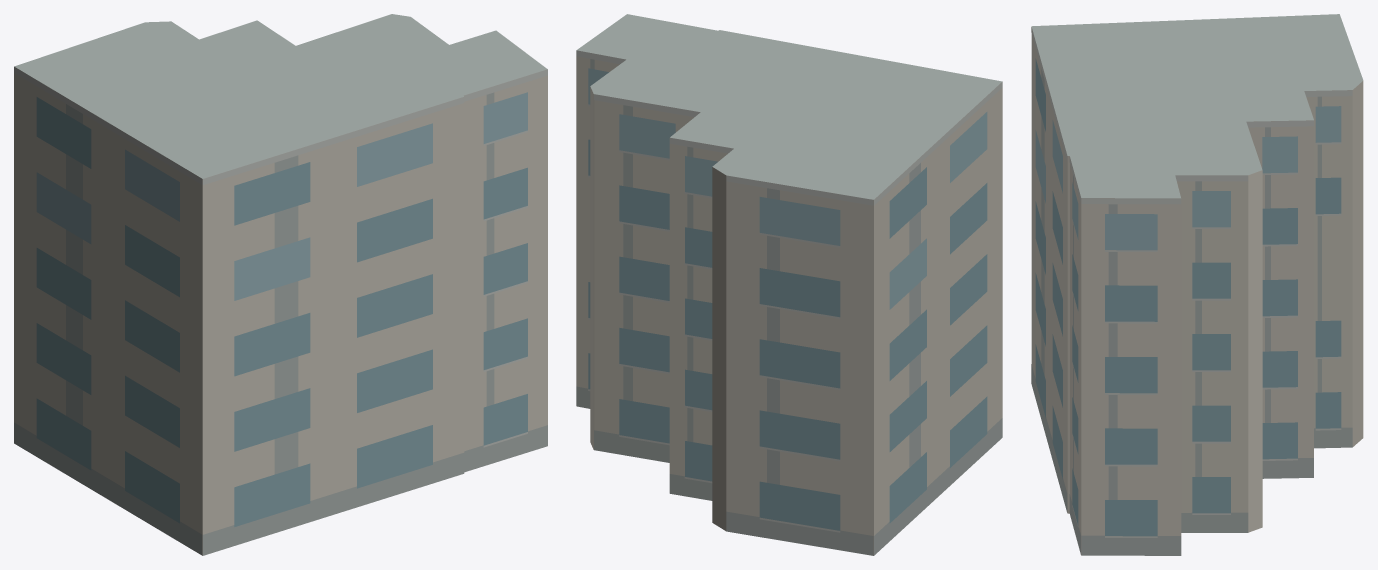
The model's file is survey-upis-32637894.glb.
3 views of the same model, side by side, from view 1: azimuth 30°, elevation 25°; view 2: azimuth 150°, elevation 25°; view 3: azimuth 270°, elevation 25° (orthographic). The views are drawn at different scales.
Visible parts, largest first — view 1: survey-upis-32637894.tmp; view 2: survey-upis-32637894.tmp; view 3: survey-upis-32637894.tmp.
Part boxes in pixels (bbox=[...]): survey-upis-32637894.tmp: bbox=[14, 14, 547, 555]; survey-upis-32637894.tmp: bbox=[576, 14, 1002, 555]; survey-upis-32637894.tmp: bbox=[1031, 14, 1363, 555].
Bounding box in the file's own units: 15.94 × 14.4 × 12.13.
